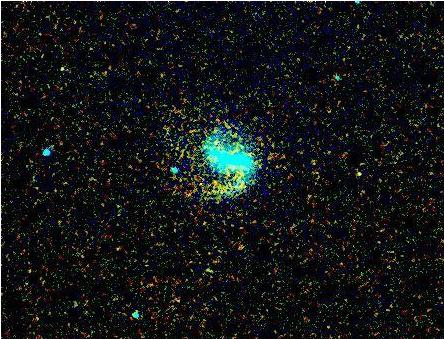star: (349, 158, 379, 188)
